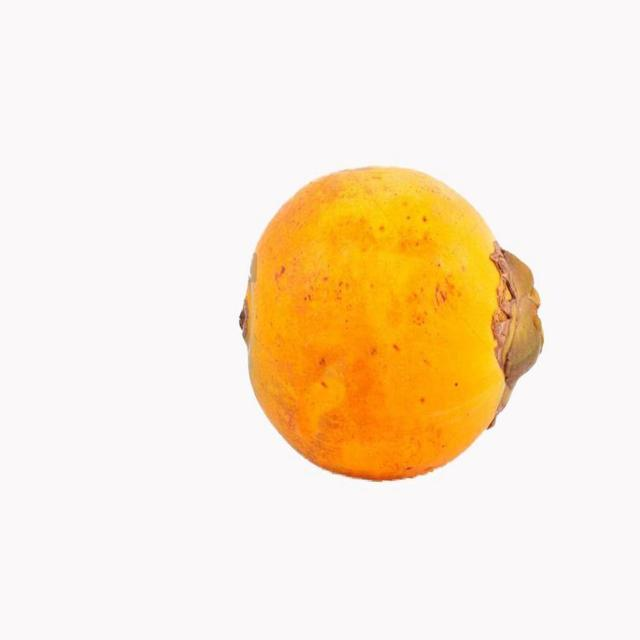good: (238, 166, 544, 484)
